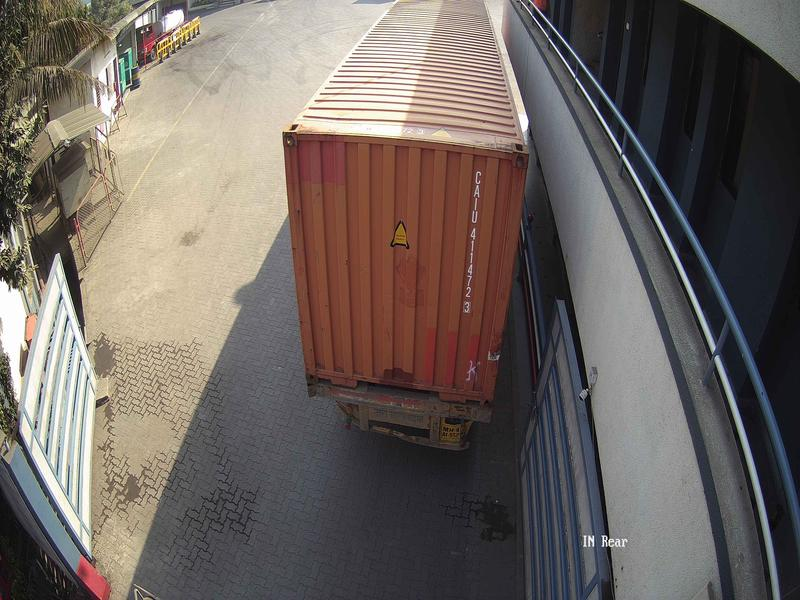container: (263, 114, 537, 412)
